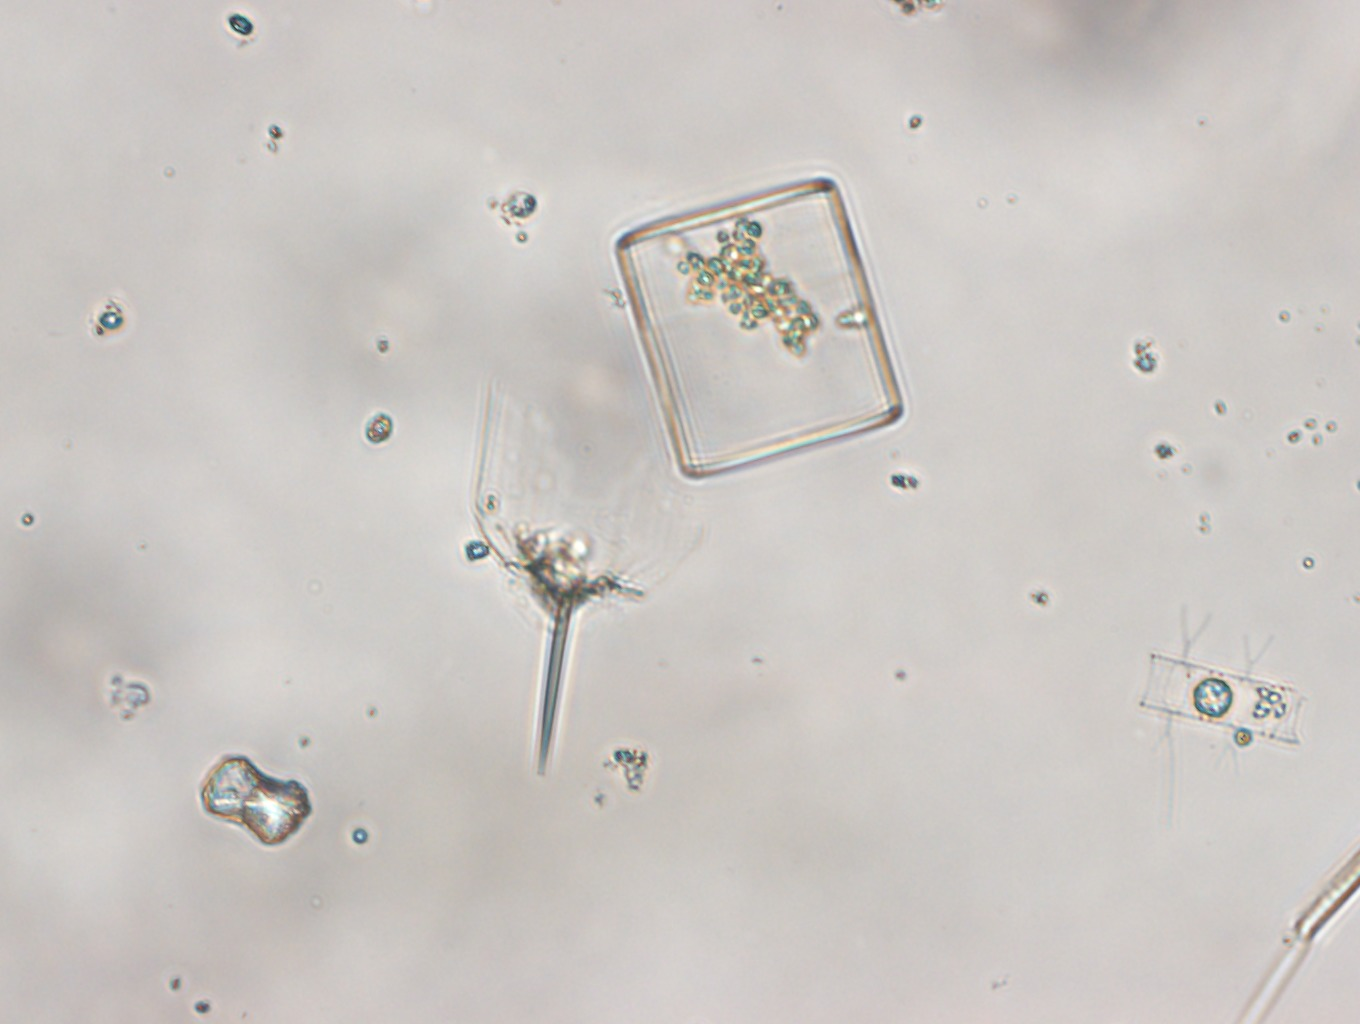chaetoceros: (1140, 600, 1311, 825)
ditylum: (475, 383, 707, 781)
guinardia flaccida: (611, 175, 903, 483)
